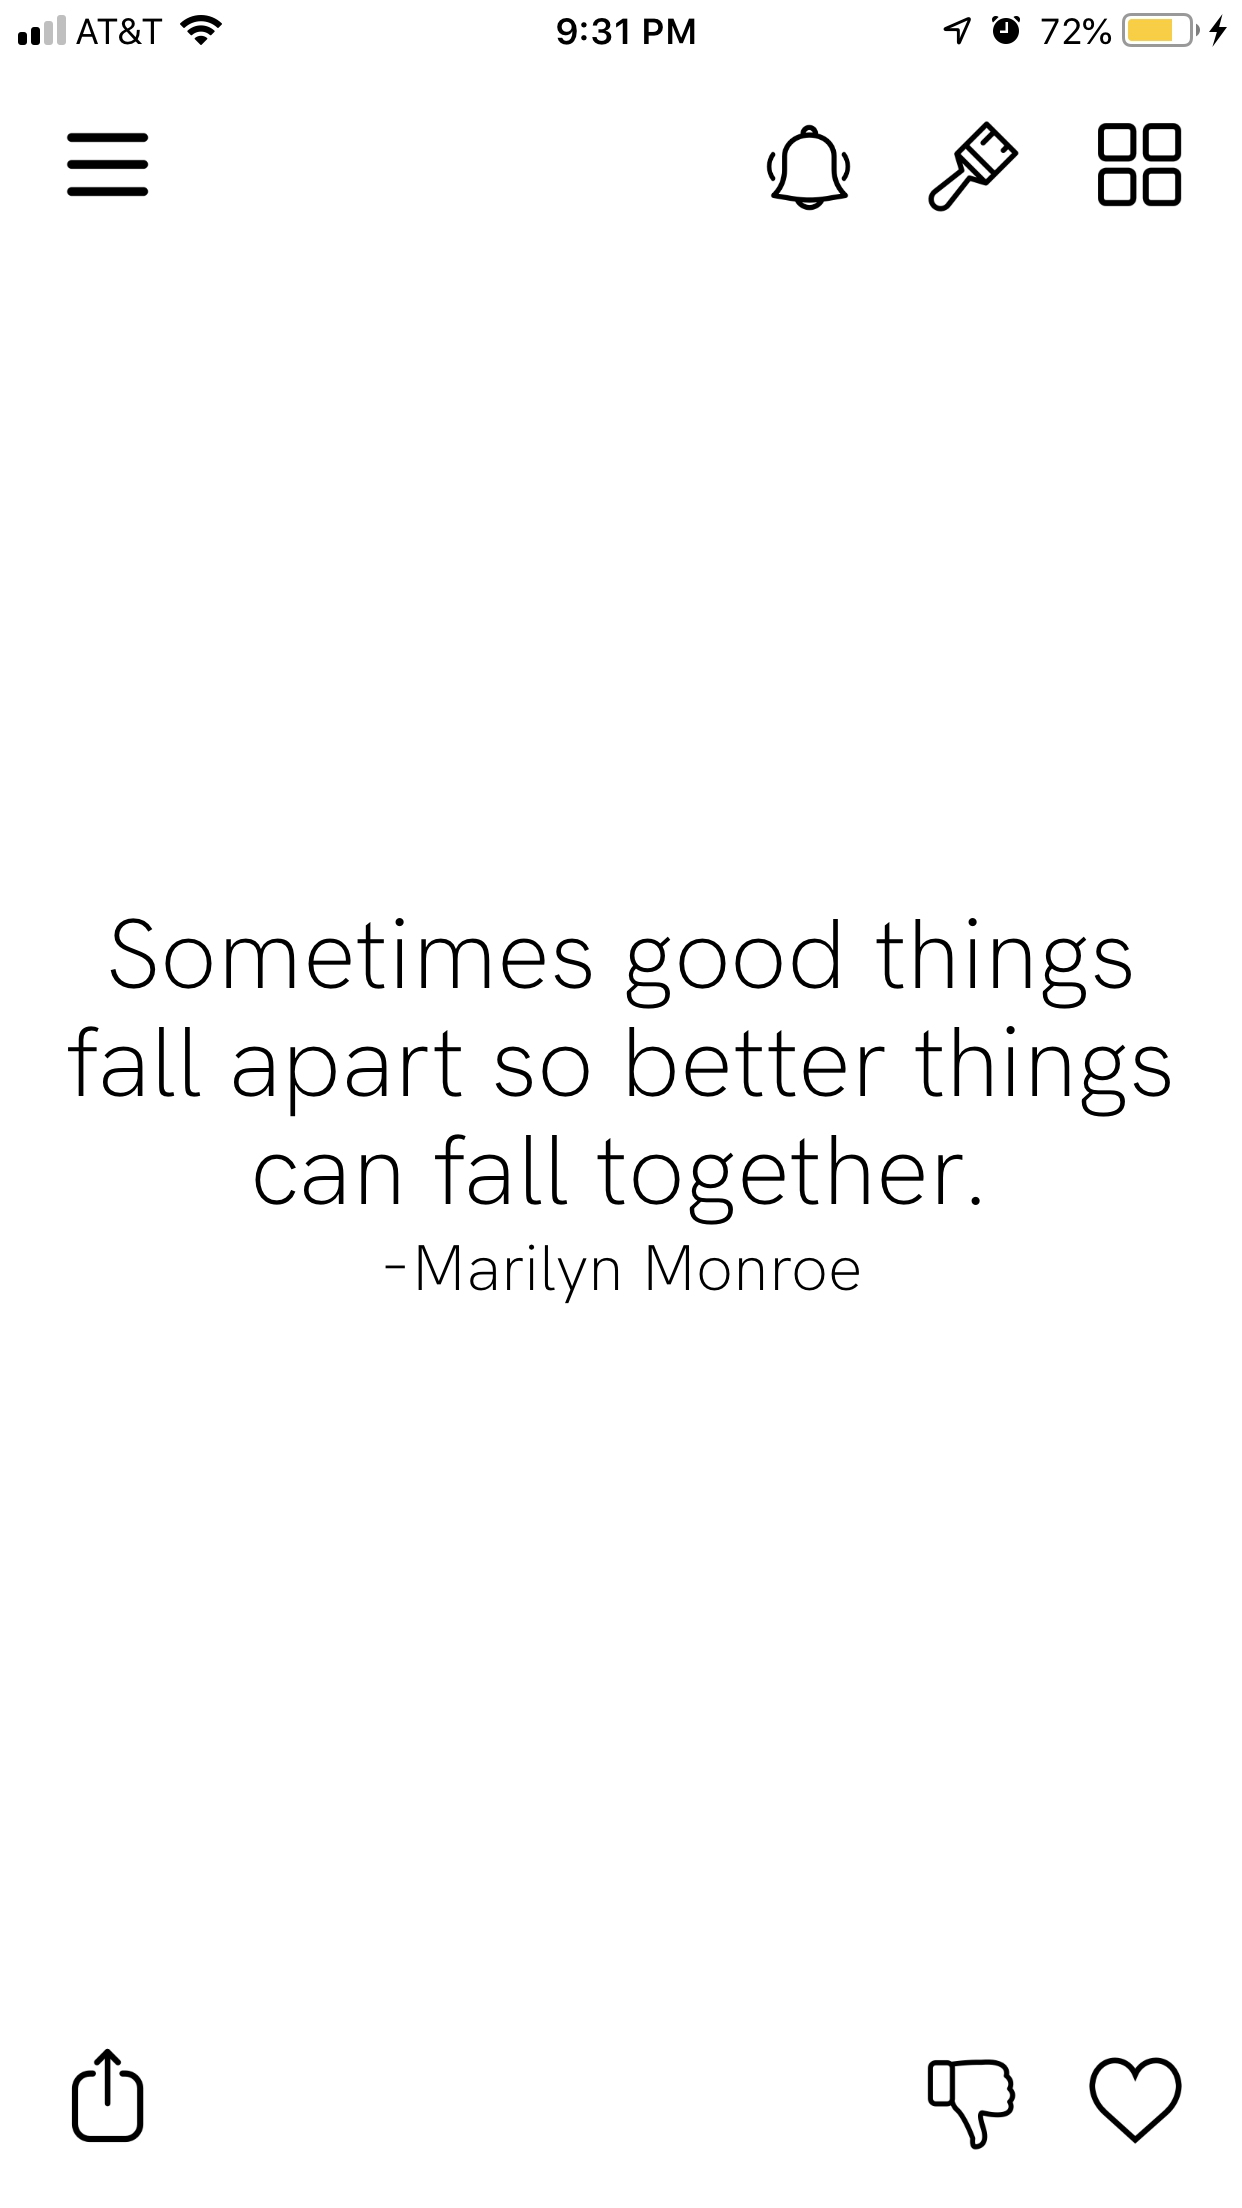Icon: (1087, 2056, 1183, 2144), (766, 124, 851, 212), (1096, 123, 1181, 208), (71, 2047, 146, 2144), (67, 132, 150, 199)
Image: (928, 121, 1021, 214), (927, 2058, 1018, 2150)
Text: (67, 917, 1172, 1227), (385, 1244, 861, 1306)
UpperTaskBar: (2, 2, 1242, 49)
